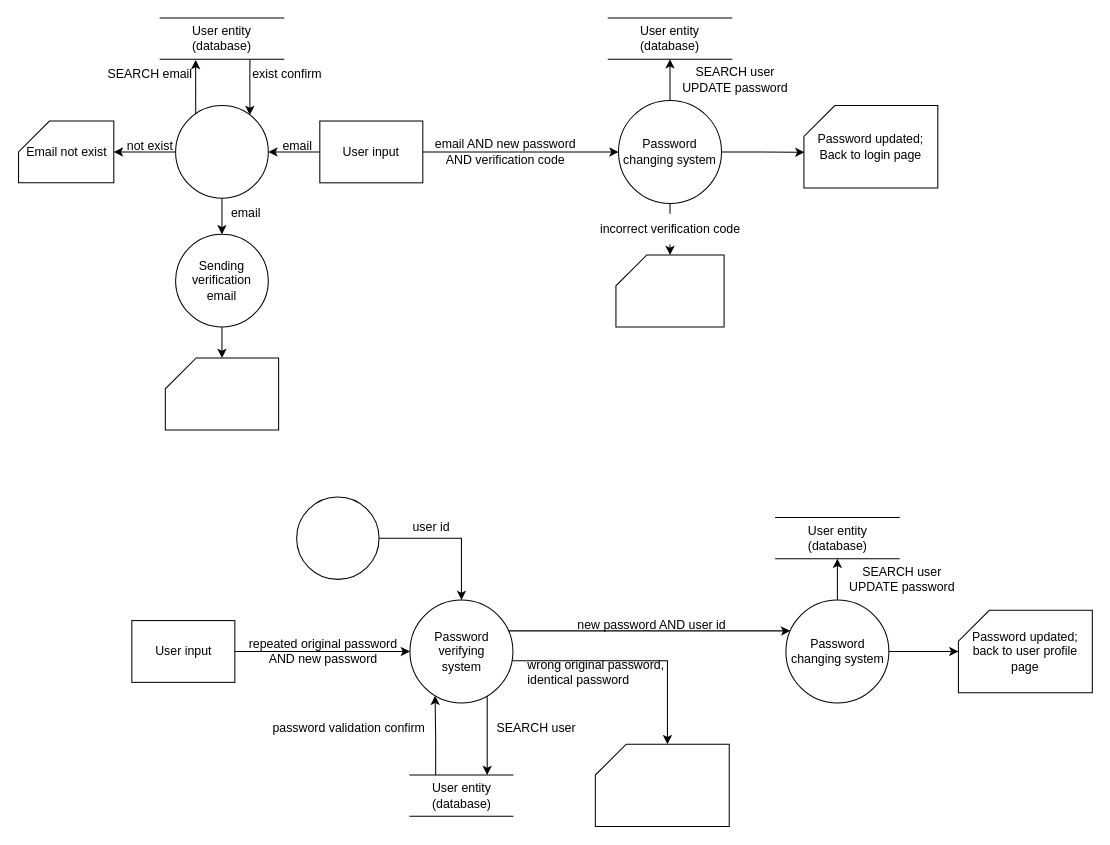
The diagram is 1110 pixels wide and 845 high, and some of its shapes have lost their labels. Each missing label, with the box of its shape:
Email verifying system: (175, 105, 268, 198)
Getting user id: (296, 496, 379, 579)
Invalid code: (615, 254, 724, 327)
Invalid password warning: (594, 743, 729, 827)
Verification code sent: (164, 357, 279, 430)
